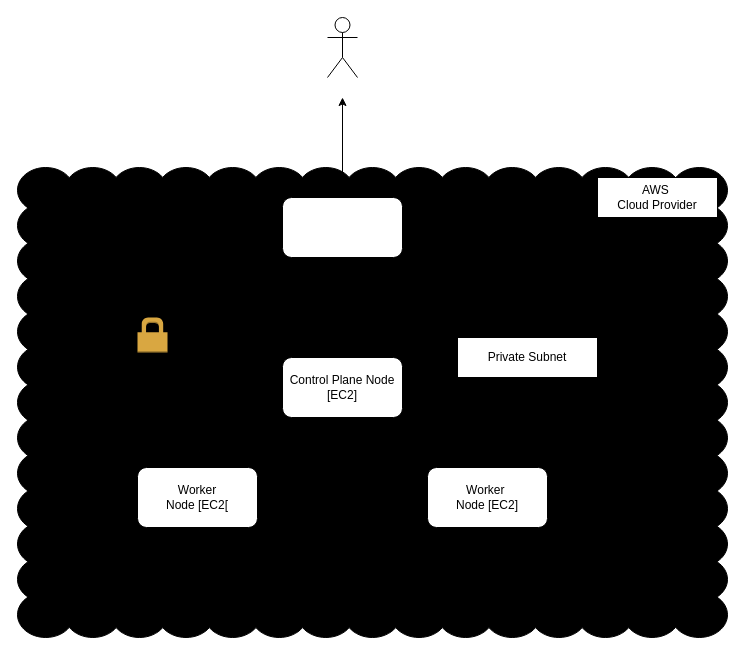
Image size: 745x655. Some labels were removed from this diagram. Each missing label, with the centre of its shape:
Actor: (342,47)
Bastion VM Public IP: (342,227)
